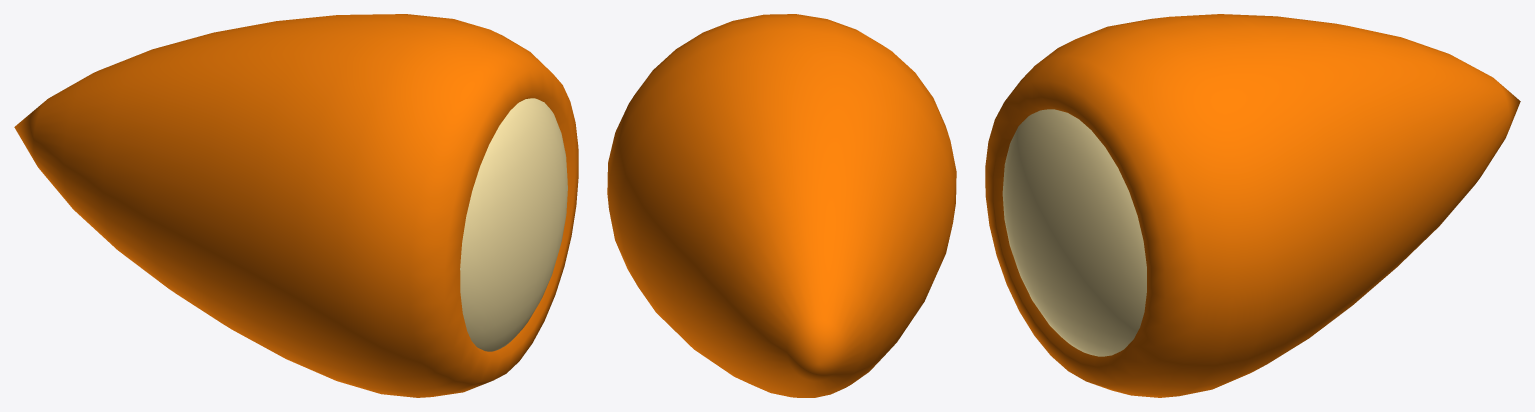
The model's file is Teddy_armleft.fbx.
3 views of the same model, side by side, from view 1: azimuth 30°, elevation 25°; view 2: azimuth 150°, elevation 25°; view 3: azimuth 270°, elevation 25° (orthographic). The views are drawn at different scales.
Visible parts, largest first — view 1: Sphere.009; view 2: Sphere.009; view 3: Sphere.009.
Boxes of the visible parts, left/top/right/bottom form: Sphere.009: left=14, top=14, right=578, bottom=397; Sphere.009: left=607, top=14, right=956, bottom=397; Sphere.009: left=985, top=14, right=1520, bottom=397.
Size of the model in its own units: 156 by 133 by 188.
